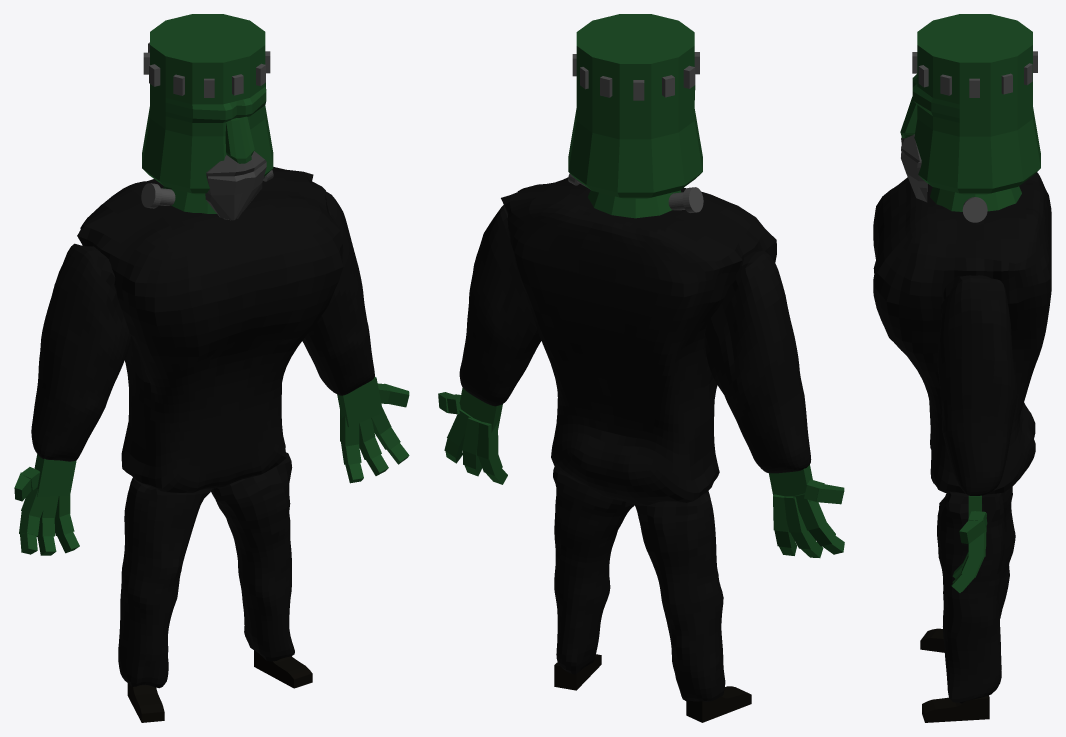
The model's file is Frankensteins-Monster.obj.
3 views of the same model, side by side, from view 1: azimuth 30°, elevation 25°; view 2: azimuth 150°, elevation 25°; view 3: azimuth 270°, elevation 25° (orthographic). The views are drawn at different scales.
Parts seen in each view (by area): view 1: Cube.009_Cube.010, Cube.011_Cube.041, Circle_Circle.001, Cube.008_Cube.013, Cube.012_Cube.014, Cube.010_Cube.011, Circle.001_Circle.003, Cube_Cube.001, Cube.015_Cube.017, Cube.027_Cube.029, Cube.014_Cube.016, Cube.001_Cube.002 (+3 smaller); view 2: Cube.009_Cube.010, Cube.011_Cube.041, Circle_Circle.001, Cube.008_Cube.013, Cube.012_Cube.014, Cube.010_Cube.011, Circle.001_Circle.003, Circle.002_Circle.004, Cube.013_Cube.015, Cube.027_Cube.029, Cube.015_Cube.017, Cube.014_Cube.016 (+3 smaller); view 3: Cube.009_Cube.010, Cube.010_Cube.011, Circle_Circle.001, Cube.012_Cube.014, Circle.001_Circle.003, Cube.014_Cube.016, Circle.002_Circle.004, Cube.008_Cube.013, Cube_Cube.001, Cylinder.001_Cylinder.002, Cube.013_Cube.015, Cube.017_Cube.019 (+2 smaller).
Boxes of the visible parts, box(x1,y1,x2,y2) form: Cube.009_Cube.010: box(77, 167, 343, 492); Cube.011_Cube.041: box(31, 243, 131, 461); Circle_Circle.001: box(150, 14, 266, 136); Cube.008_Cube.013: box(118, 477, 212, 688); Cube.012_Cube.014: box(211, 452, 294, 661); Cube.010_Cube.011: box(302, 191, 374, 395); Circle.001_Circle.003: box(142, 106, 273, 194); Cube_Cube.001: box(205, 151, 266, 220); Cube.015_Cube.017: box(337, 377, 382, 427); Cube.027_Cube.029: box(34, 454, 76, 496); Cube.014_Cube.016: box(254, 650, 312, 688); Cube.001_Cube.002: box(225, 116, 254, 163); Cube.009_Cube.010: box(501, 177, 776, 505); Cube.011_Cube.041: box(703, 249, 811, 473); Circle_Circle.001: box(576, 14, 695, 139); Cube.008_Cube.013: box(634, 491, 725, 701); Cube.012_Cube.014: box(553, 466, 634, 674); Cube.010_Cube.011: box(459, 205, 541, 406); Circle.001_Circle.003: box(568, 108, 702, 198); Circle.002_Circle.004: box(588, 190, 681, 218); Cube.013_Cube.015: box(686, 686, 751, 722); Cube.027_Cube.029: box(768, 465, 812, 501); Cube.015_Cube.017: box(459, 387, 502, 432); Cube.014_Cube.016: box(554, 654, 601, 690); Cube.009_Cube.010: box(873, 172, 1051, 494); Cube.010_Cube.011: box(937, 275, 1017, 495); Circle_Circle.001: box(912, 14, 1032, 136); Cube.012_Cube.014: box(937, 492, 1004, 703); Circle.001_Circle.003: box(914, 107, 1040, 194); Cube.014_Cube.016: box(922, 695, 989, 722); Circle.002_Circle.004: box(930, 186, 1021, 211); Cube.008_Cube.013: box(999, 487, 1015, 618); Cube_Cube.001: box(901, 134, 927, 202); Cylinder.001_Cylinder.002: box(962, 197, 987, 222); Cube.013_Cube.015: box(920, 628, 944, 652); Cube.017_Cube.019: box(959, 519, 985, 544).
Size of the model in its own units: 4.08 by 6.35 by 1.59.
